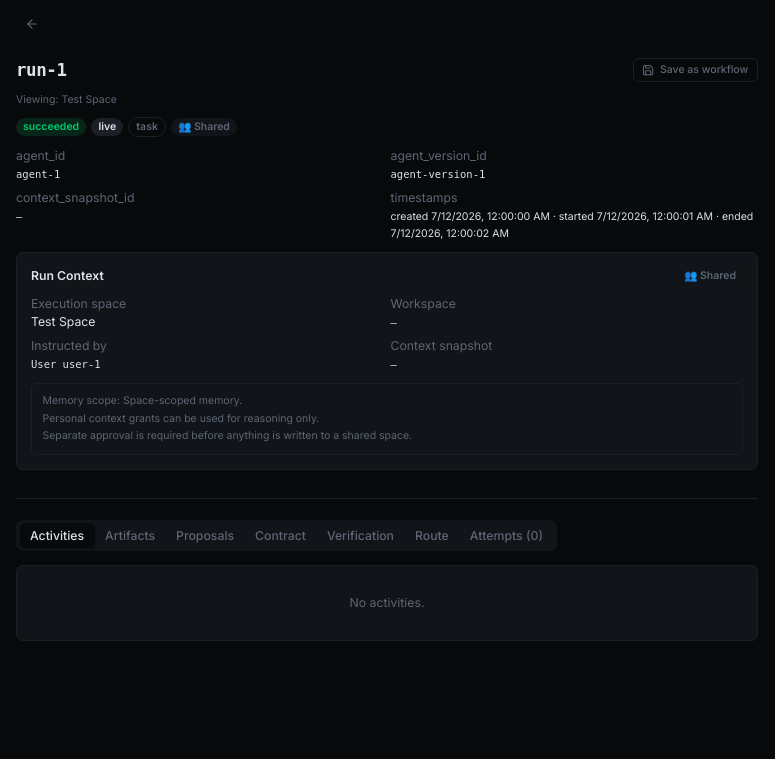
RunDetailPage route decision panel › does not turn optional subresource failures into empty history
The width and height of the screenshot is (775, 759).
Click the tab "Attempts (0)": click(506, 535) [459,523,553,548]
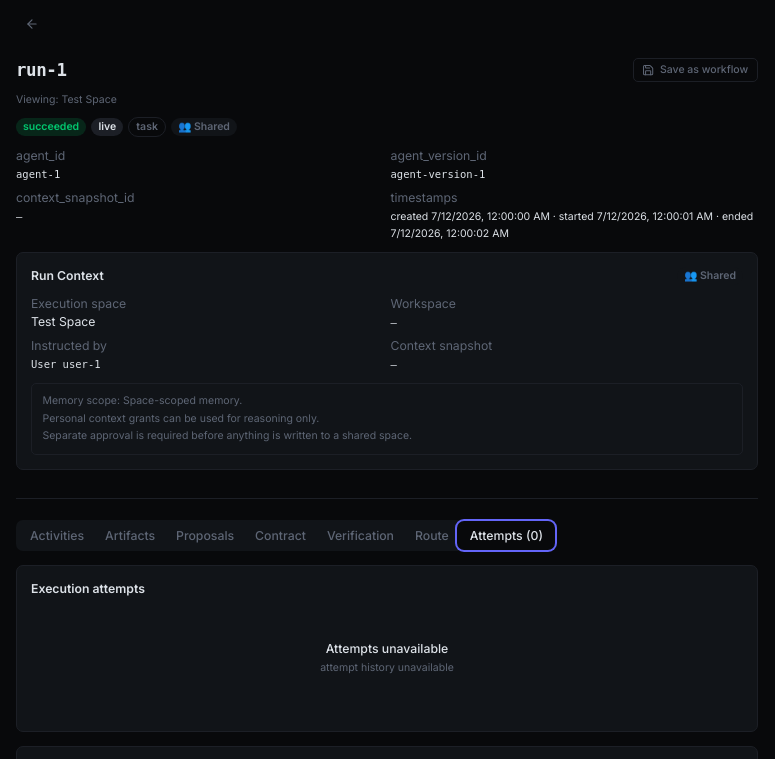
Check: the text "Attempts unavailable" is shown, box [326,640,448,657]
Check: the text "attempt history unavailable" is shown 2 times
Click the tab "Verification": click(360, 535) [316,523,404,548]
(page scrolled)
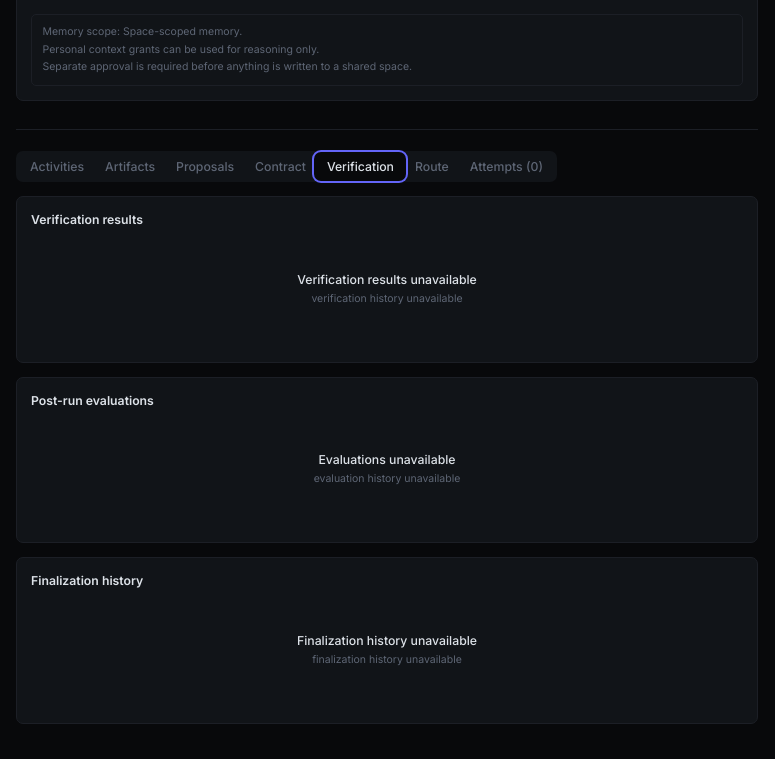
Check: the text "Evaluations unavailable" is shown, box [318,451,456,468]
Check: the text "Verification results unavailable" is shown, box [297,270,477,288]
Check: the text "Finalization history unavailable" is shown, box [297,632,477,649]
